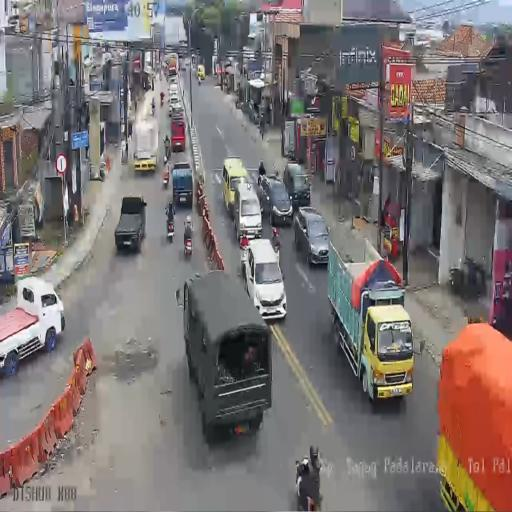3: (326, 240, 412, 405), (132, 115, 159, 173), (171, 162, 193, 207), (143, 50, 153, 73), (168, 54, 178, 76)
car: (240, 236, 286, 319), (294, 206, 328, 266), (114, 195, 148, 253), (230, 178, 260, 241), (258, 173, 293, 227), (171, 116, 186, 151), (169, 94, 182, 114), (168, 76, 179, 99), (197, 64, 205, 82)
truck: (164, 134, 170, 162), (150, 103, 156, 116), (160, 93, 164, 107)
